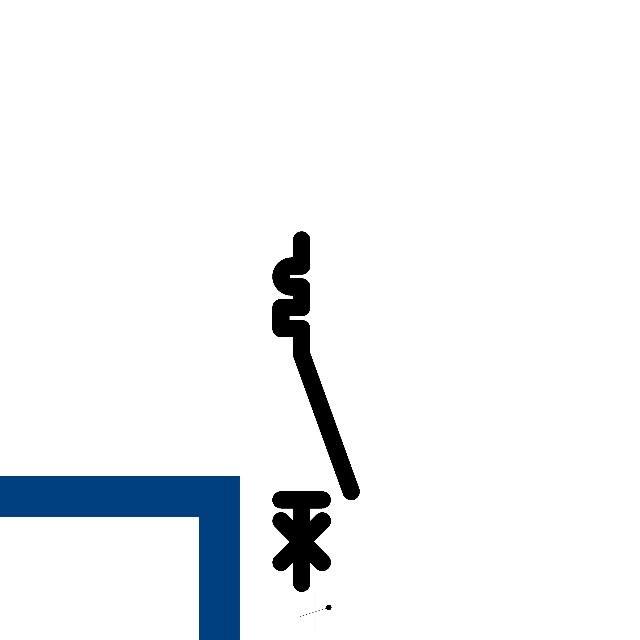interruptor_termomagnetico: (272, 231, 360, 592)
